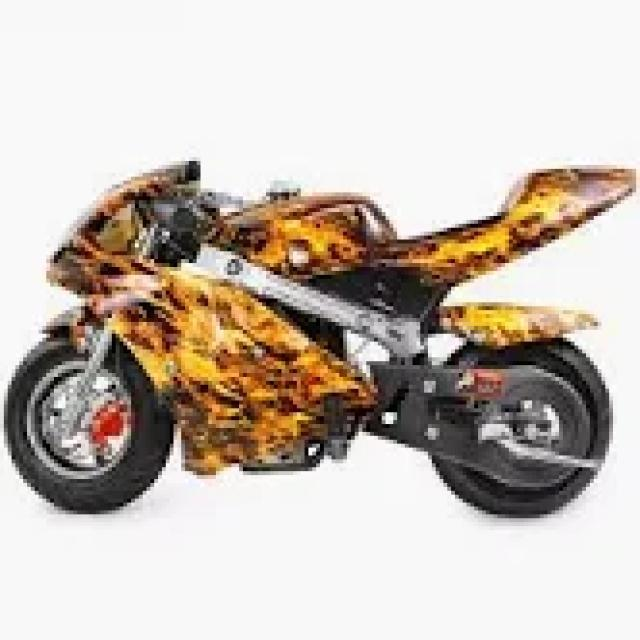motorcycle: (0, 157, 636, 518)
